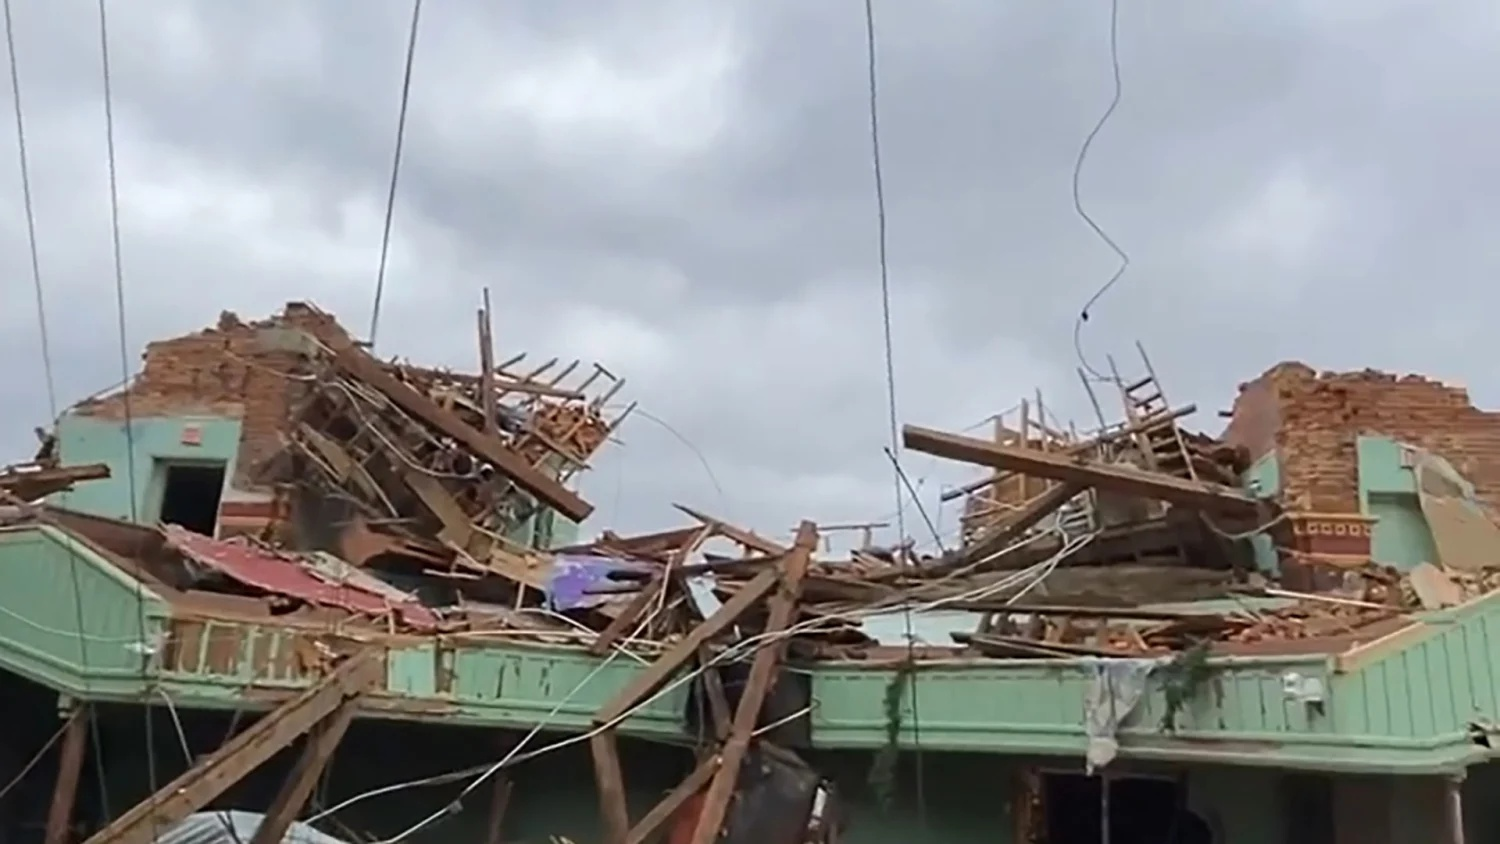sagging_roof: (121, 269, 1421, 671)
